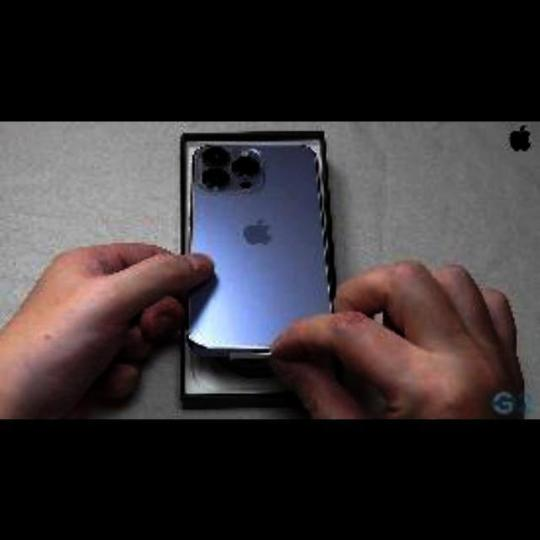phone: (176, 140, 330, 364)
